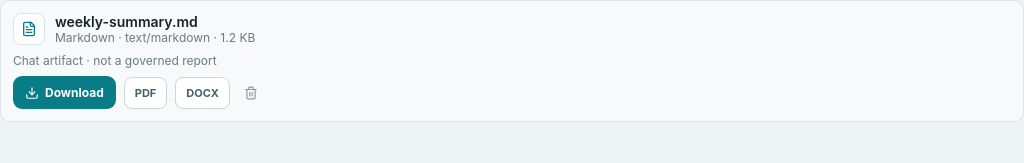
Test: a refused removal surfaces a bounded error and keeps the card
The image size is (1024, 163).
Click the button named "Remove weekly-summary.md" at x=253, y=92, box [238,78,268,108]
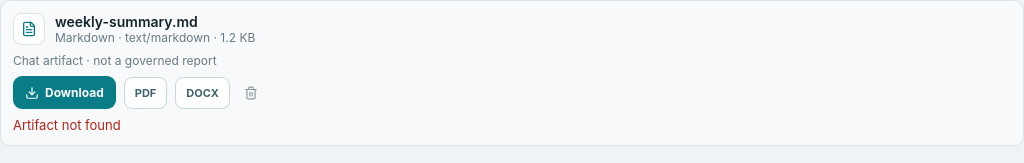
Now the message reads "Artifact not found", box [13,117,121,133]
